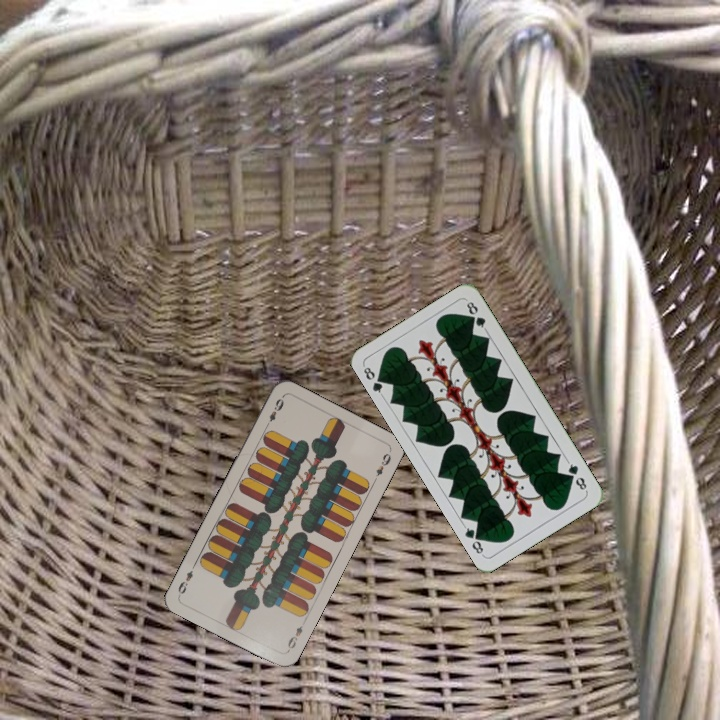E9: (283, 616, 308, 654), (262, 394, 286, 431)
G8: (359, 362, 388, 399), (563, 457, 589, 494)
